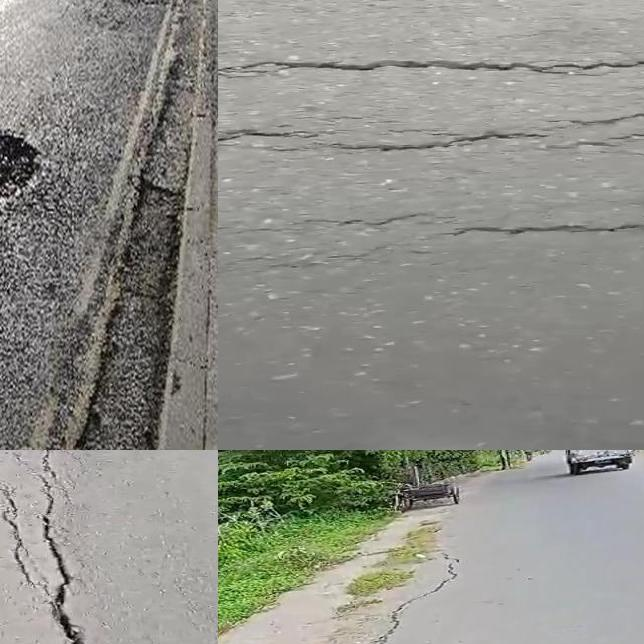Lubang: (0, 125, 45, 200)
Melintang: (218, 104, 644, 171), (218, 46, 644, 90)
Memanjang: (28, 450, 95, 644), (0, 456, 35, 594)
